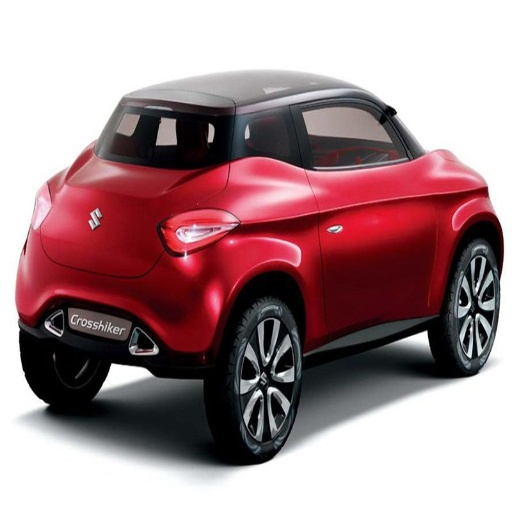back_bumper: (17, 246, 228, 361)
back_right_door: (290, 101, 388, 324)
trunk: (41, 163, 226, 273), (286, 233, 317, 312)
